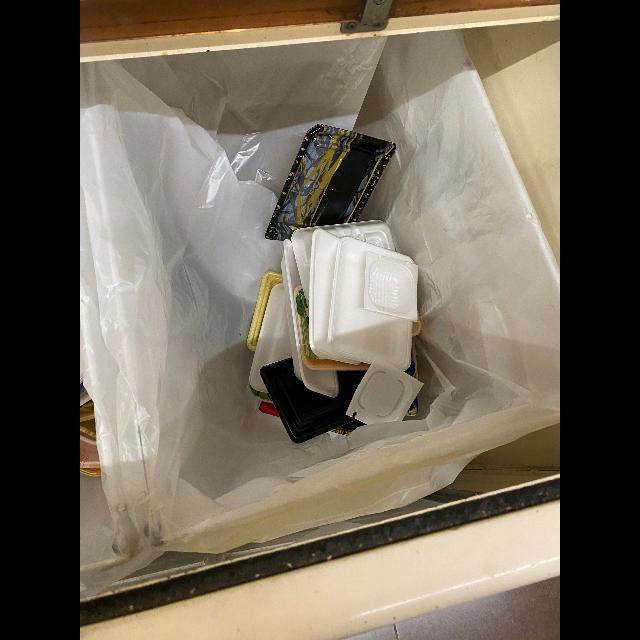plastic_container: (265, 124, 397, 241), (260, 357, 366, 444), (345, 357, 424, 425), (364, 251, 418, 322)
